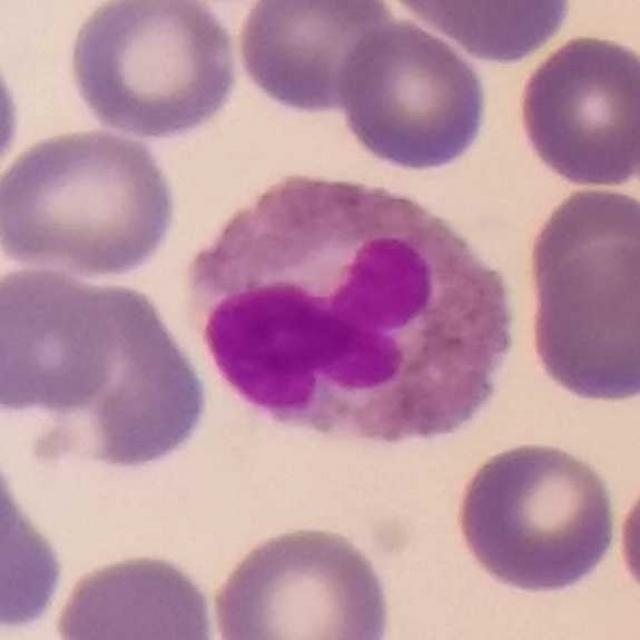eosino: (182, 167, 519, 447)
